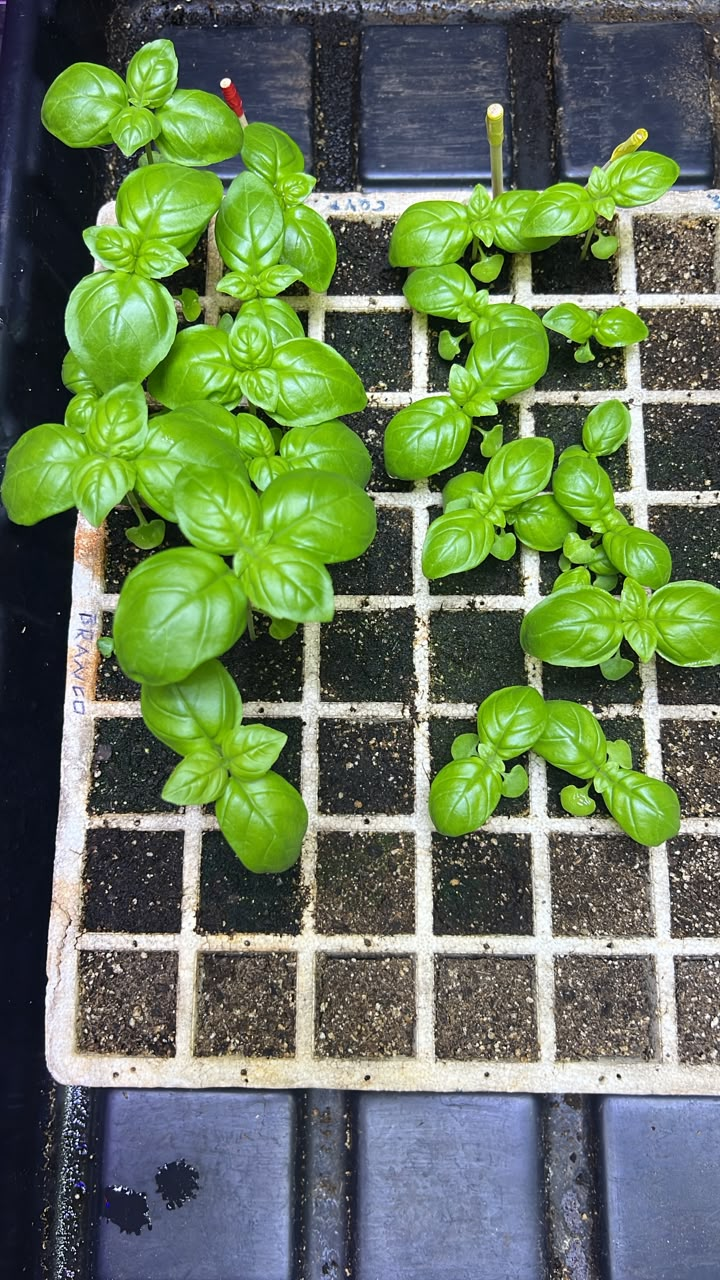Folha: (102, 134, 347, 416), (137, 292, 397, 465), (381, 292, 543, 497), (488, 300, 651, 364), (386, 201, 416, 312), (478, 682, 588, 707), (292, 584, 336, 641), (591, 231, 618, 259), (575, 345, 592, 364)
Germinacao: (93, 123, 356, 427), (375, 284, 549, 505), (482, 298, 657, 366)
